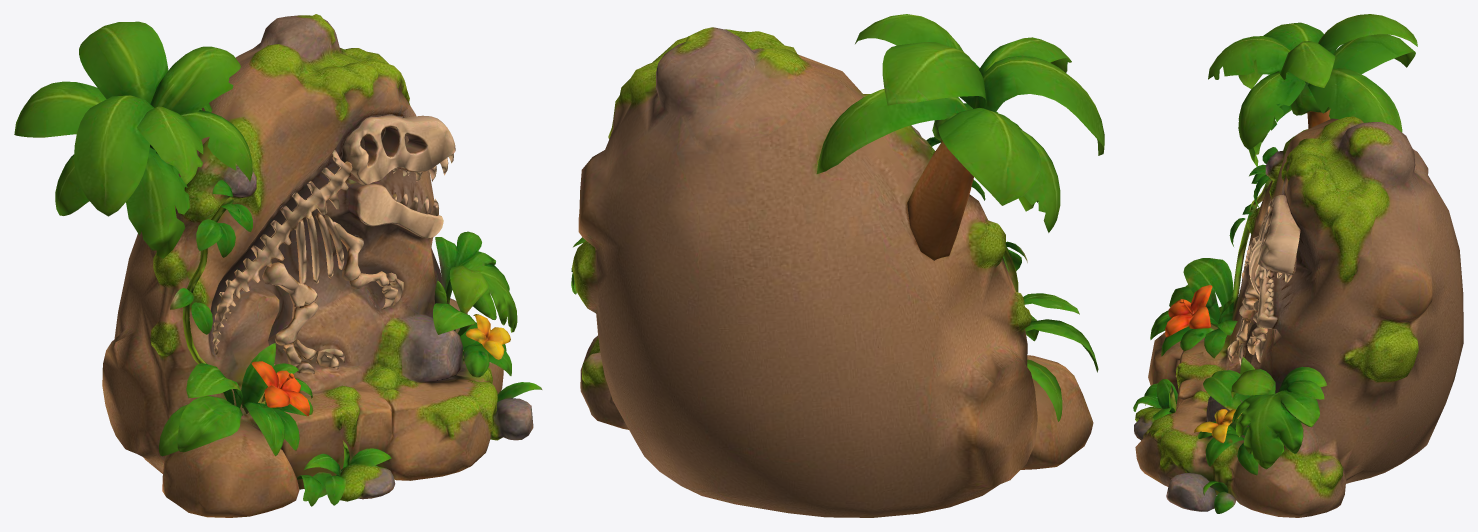
File: fossil_rock.glb
3 views of the same model, side by side, from view 1: azimuth 30°, elevation 25°; view 2: azimuth 150°, elevation 25°; view 3: azimuth 270°, elevation 25° (orthographic). The views are drawn at different scales.
Parts seen in each view (by area): view 1: fossil_rock; view 2: fossil_rock; view 3: fossil_rock.
Part boxes in pixels (left/top/right/bottom): fossil_rock: left=14, top=14, right=542, bottom=517; fossil_rock: left=571, top=14, right=1104, bottom=517; fossil_rock: left=1133, top=14, right=1463, bottom=517.
Bounding box in the file's own units: 5.65 × 5 × 4.12.
Materials: 1 (1 with a texture image).
